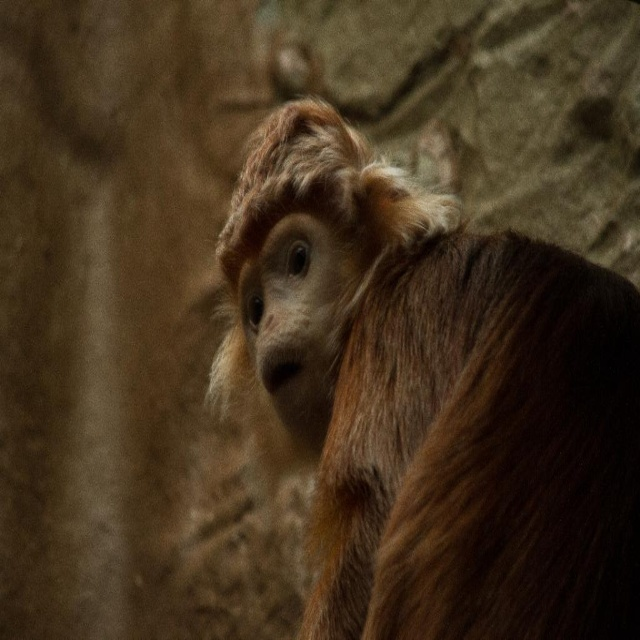Monkey: (212, 106, 640, 640)
